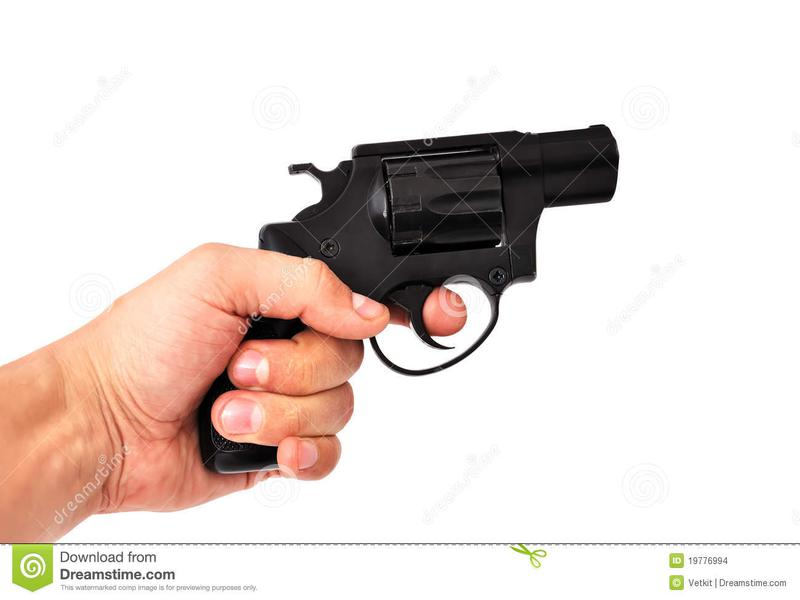Revolver: (232, 109, 638, 391)
